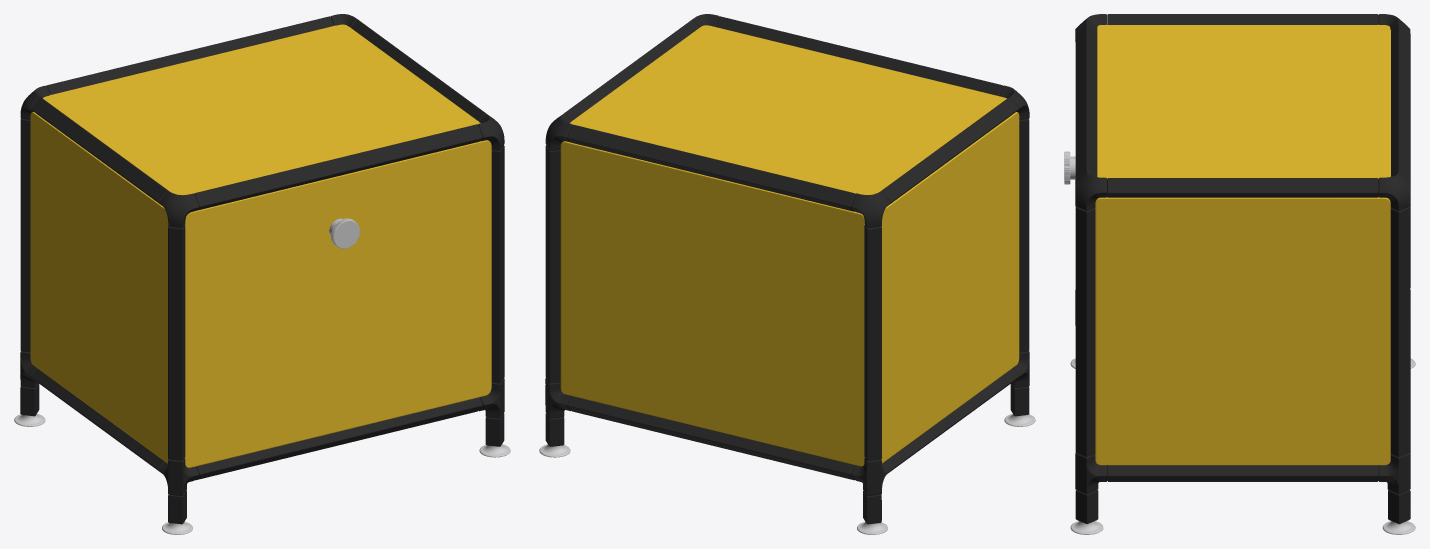
3 renders of one model, left to right at view 1: azimuth 30°, elevation 25°; view 2: azimuth 150°, elevation 25°; view 3: azimuth 270°, elevation 25°, orthographic. The views are drawn at different scales.
Visible parts, largest first — view 1: 420x329x330; view 2: 420x329x330; view 3: 420x329x330.
Boxes of the visible parts, <box> form: 420x329x330: <box>14,14,510,534</box>; 420x329x330: <box>539,14,1035,534</box>; 420x329x330: <box>1064,14,1415,534</box>.
Size of the model in its own units: 0.5099 by 0.4683 by 0.4257.
